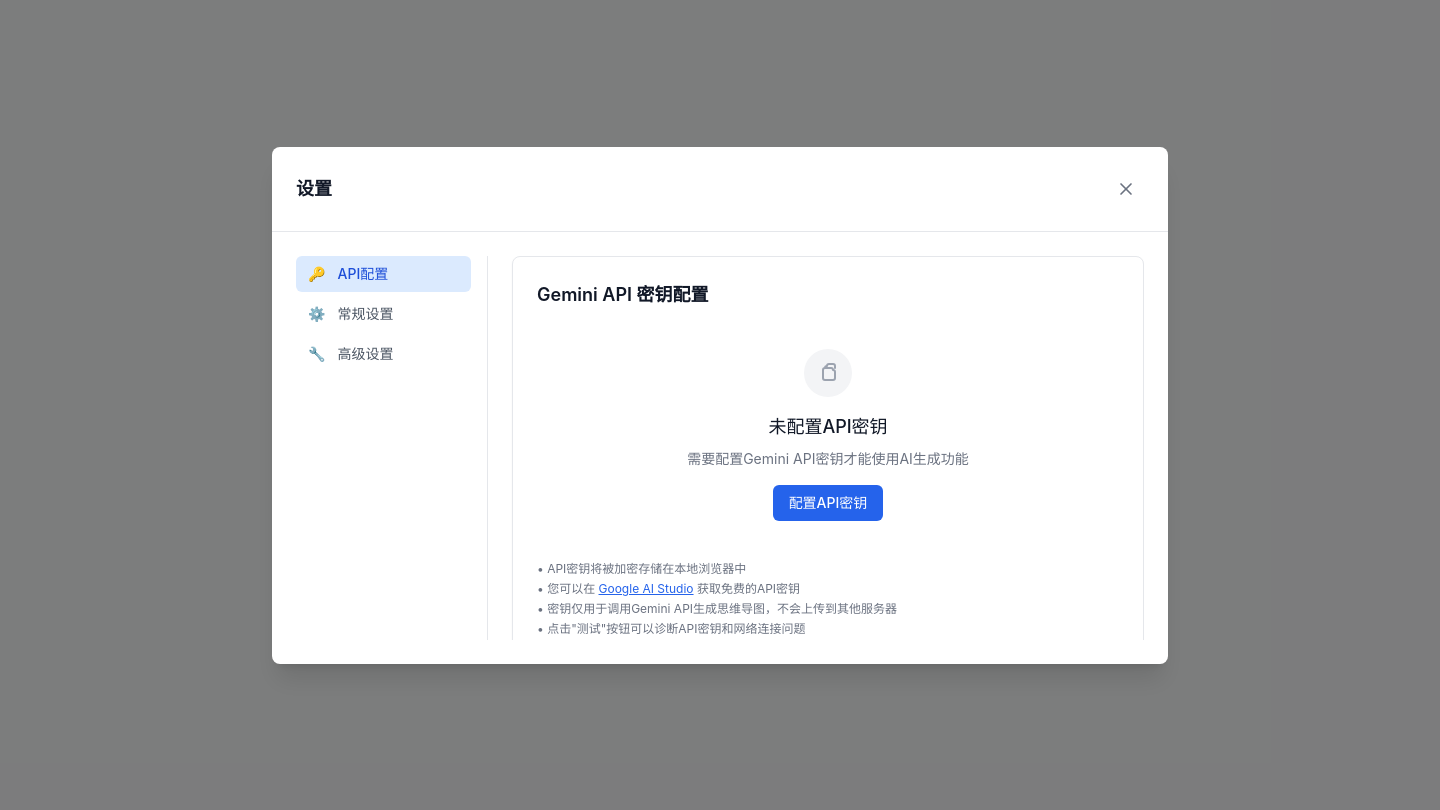
设置组件测试 › SettingsPanel 组件 › 应该能够访问高级设置
The width and height of the screenshot is (1440, 810).
Click the button "🔧 高级设置": (384,354) x1=296 y1=336 x2=471 y2=372
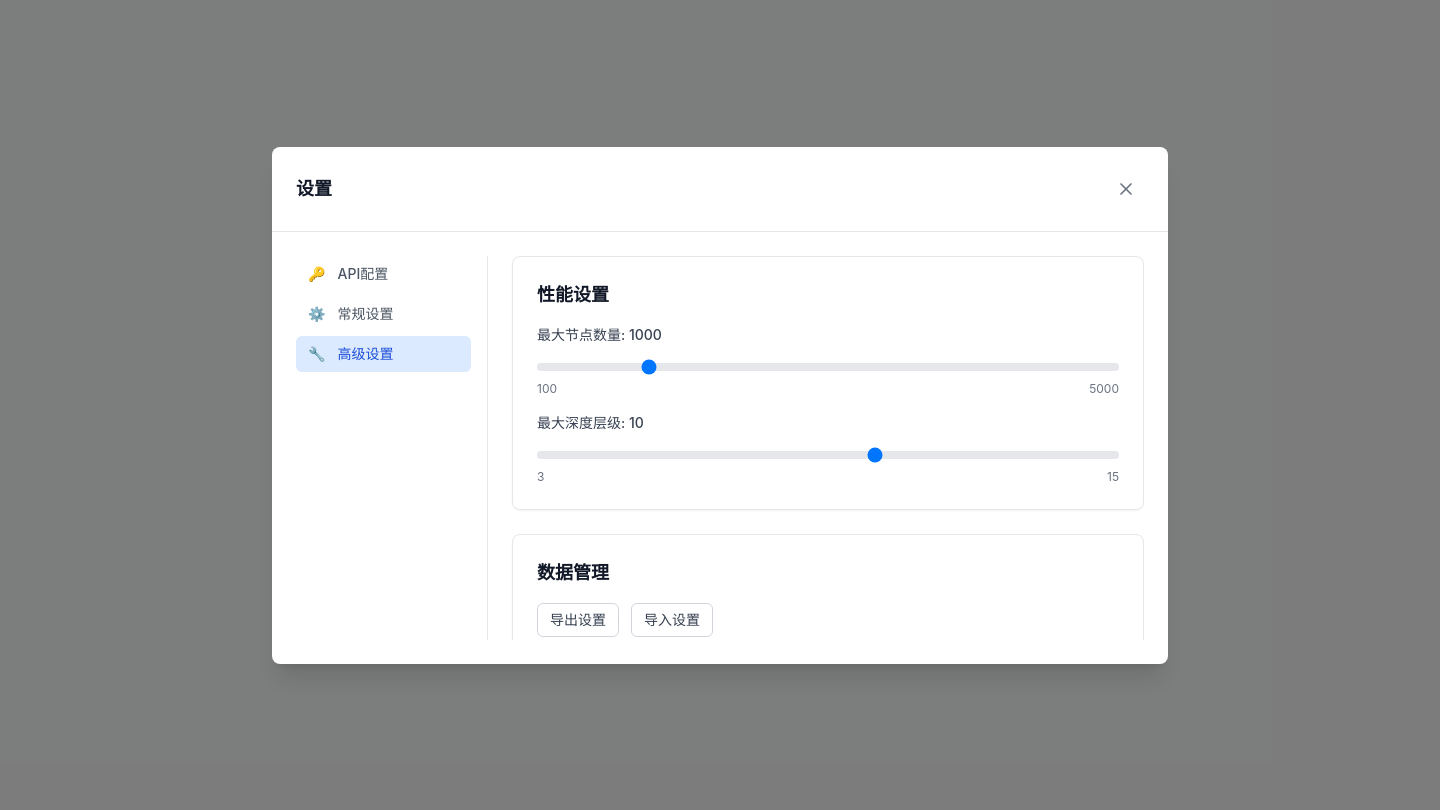
Result: the heading "性能设置" is shown at x1=537 y1=284 x2=609 y2=304
Result: the heading "数据管理" is shown at x1=537 y1=562 x2=609 y2=582
Result: the button "导出设置" is shown at x1=537 y1=602 x2=619 y2=636
